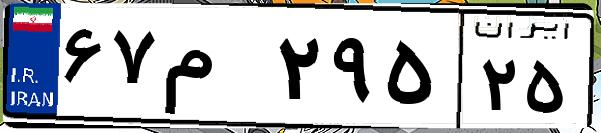2: (270, 28, 330, 110), (475, 38, 525, 113)
5: (385, 28, 445, 110), (525, 38, 570, 115)
6: (57, 26, 110, 100)
7: (110, 28, 158, 98)
9: (330, 28, 385, 110)
م: (158, 20, 270, 120)
